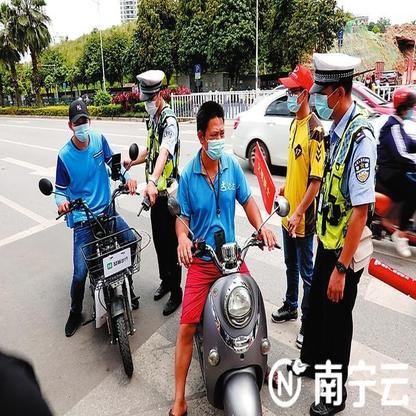target: (163, 100, 291, 415), (36, 97, 161, 384)
